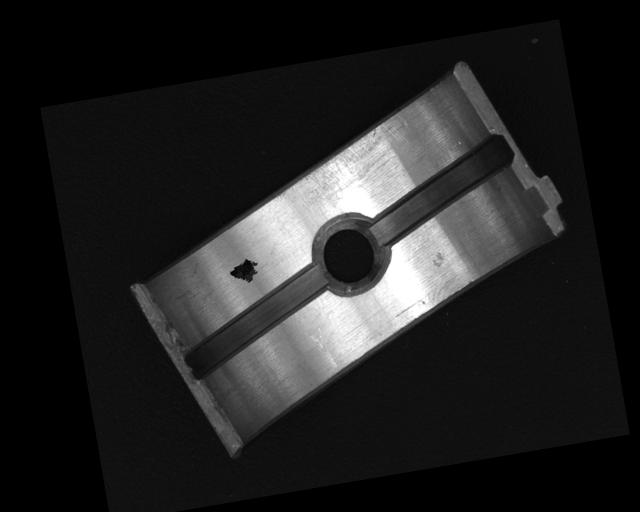blot: (226, 255, 262, 287)
bruise: (428, 250, 447, 270)
gap: (173, 263, 337, 380), (360, 132, 523, 244)
hole: (310, 208, 391, 298)
nick: (301, 321, 337, 373)
scratch: (279, 110, 416, 213)
